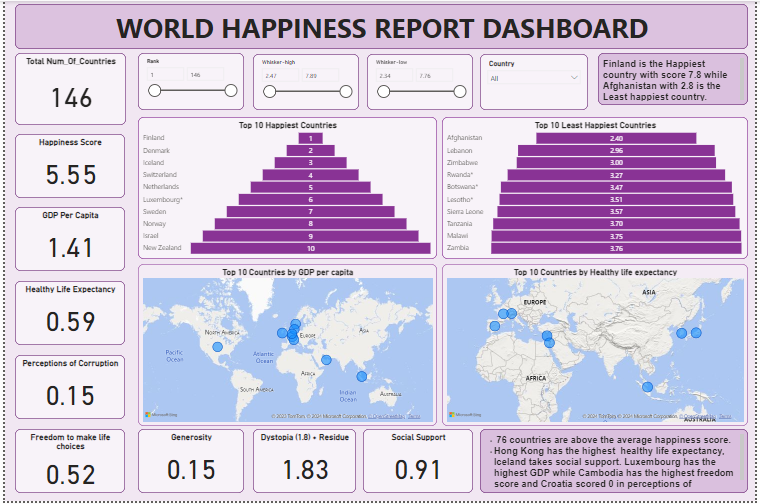

The page's visual inventory and layout, read from the dashboard file:
{"tool":"powerbi","page":{"name":"Page 1","canvas":[1500,1000],"ordinal":0},"visuals":[{"type":"card","title":"Dystopia (1.8) + Residue","fields":{"Values":["Avg(Happiness.Dystopia (1.83) + residual)"]},"box":[496,856,206,128],"z":0},{"type":"card","title":"Freedom to make life choices","fields":{"Values":["Avg(Happiness.Freedom to make life choices)"]},"box":[20,856,220,128],"z":1000},{"type":"card","title":"GDP Per Capita","fields":{"Values":["Avg(Happiness.GDP per capita)"]},"box":[20,412,220,128],"z":2000},{"type":"card","title":"Generosity","fields":{"Values":["Avg(Happiness.Generosity)"]},"box":[266,856,212,128],"z":3000},{"type":"card","title":"Happiness Score","fields":{"Values":["Avg(Happiness.Happiness score)"]},"box":[20,266,220,128],"z":4000},{"type":"card","title":"Healthy Life Expectancy","fields":{"Values":["Avg(Happiness.Healthy life expectancy)"]},"box":[20,560,220,128],"z":5000},{"type":"card","title":"Perceptions of Corruption","fields":{"Values":["Avg(Happiness.Perceptions of corruption)"]},"box":[20,708,220,128],"z":6000},{"type":"card","title":"Social Support","fields":{"Values":["Avg(Happiness.Social support)"]},"box":[716,856,220,128],"z":7000},{"type":"slicer","fields":{"Values":["Happiness.Country"]},"box":[950,106,216,112],"z":8000},{"type":"slicer","fields":{"Values":["Happiness.Whisker-high"]},"box":[496,106,212,112],"z":9000},{"type":"slicer","fields":{"Values":["Happiness.Whisker-low"]},"box":[724,106,212,112],"z":10000},{"type":"slicer","fields":{"Values":["Happiness.RANK"]},"box":[266,104,212,114],"z":11000},{"type":"textbox","box":[20,6,1466,90],"z":12000},{"type":"card","title":"Total Num_Of_Countries","fields":{"Values":["Count(Happiness.Country)"]},"box":[20,104,222,144],"z":13000},{"type":"funnel","title":"Top 10 Happiest Countries","fields":{"Category":["Happiness.Country"],"Y":["Sum(Happiness.RANK)"]},"box":[266,232,598,284],"z":14000},{"type":"funnel","title":"Top 10 Least Happiest Countries","fields":{"Category":["Happiness.Country"],"Y":["Sum(Happiness.Happiness score)"]},"box":[874,232,612,284],"z":15000},{"type":"map","title":"Top 10 Countries by GDP per capita","fields":{"Size":["Sum(Happiness.GDP per capita)"],"Category":["Happiness.Country"]},"box":[266,526,598,324],"z":16000},{"type":"map","title":"Top 10 Countries by  Healthy life expectancy","fields":{"Category":["Happiness.Country"],"Size":["Sum(Happiness.Healthy life expectancy)"]},"box":[874,526,612,324],"z":17000},{"type":"textbox","box":[950,856,536,128],"z":18000},{"type":"textbox","box":[1186,104,300,104],"z":19000}]}

Visuals, with their boxes in screenshot pixels (x1, y1, x2, y2), scaled from the page's 1500x1000 canvas onto the 760x504 screenshot:
"Dystopia (1.8) + Residue" card: [251,431,356,496]
"Freedom to make life choices" card: [10,431,122,496]
"GDP Per Capita" card: [10,208,122,272]
"Generosity" card: [135,431,242,496]
"Happiness Score" card: [10,134,122,199]
"Healthy Life Expectancy" card: [10,282,122,347]
"Perceptions of Corruption" card: [10,357,122,421]
"Social Support" card: [363,431,474,496]
slicer - Happiness.Country: [481,53,591,110]
slicer - Happiness.Whisker-high: [251,53,359,110]
slicer - Happiness.Whisker-low: [367,53,474,110]
slicer - Happiness.RANK: [135,52,242,110]
textbox: [10,3,753,48]
"Total Num_Of_Countries" card: [10,52,123,125]
"Top 10 Happiest Countries" funnel: [135,117,438,260]
"Top 10 Least Happiest Countries" funnel: [443,117,753,260]
"Top 10 Countries by GDP per capita" map: [135,265,438,428]
"Top 10 Countries by  Healthy life expectancy" map: [443,265,753,428]
textbox: [481,431,753,496]
textbox: [601,52,753,105]
